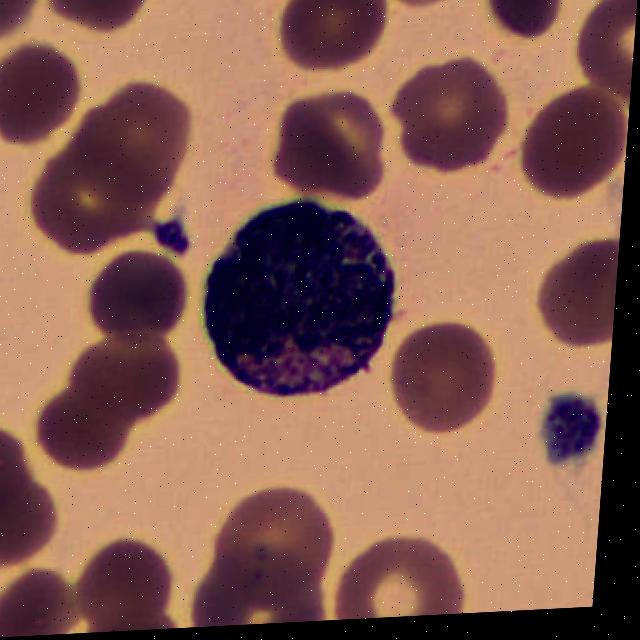basophil: (198, 187, 409, 393)
platelets: (546, 380, 609, 469), (151, 207, 203, 265)
rbc: (208, 478, 354, 616), (385, 58, 519, 191), (75, 80, 202, 213), (379, 319, 510, 437), (523, 93, 631, 226), (262, 89, 387, 202), (0, 175, 162, 262), (524, 238, 620, 368), (67, 533, 183, 633), (331, 544, 482, 620), (70, 333, 187, 429), (88, 255, 193, 357), (186, 562, 337, 628), (0, 39, 96, 141), (271, 0, 390, 74), (573, 0, 639, 125), (32, 392, 140, 466), (0, 462, 62, 580), (0, 571, 93, 638), (40, 0, 150, 48), (371, 0, 475, 45), (481, 0, 561, 53), (0, 427, 27, 501), (0, 0, 42, 46), (562, 0, 640, 4)
